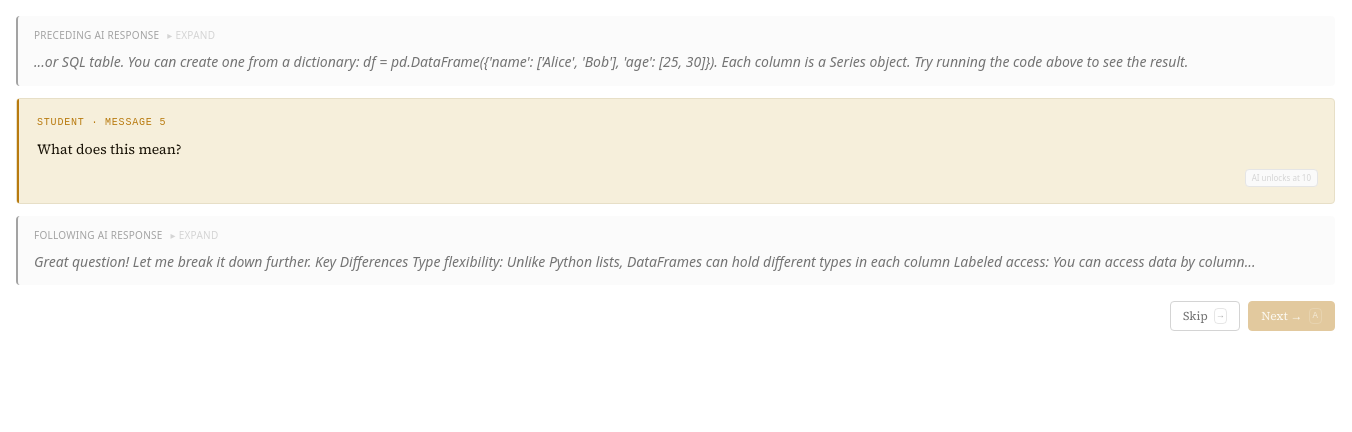
clicking collapsed context expands to show full markdown
Click the text "Preceding AI response". click: x=676, y=51
box: [16, 16, 1335, 86]
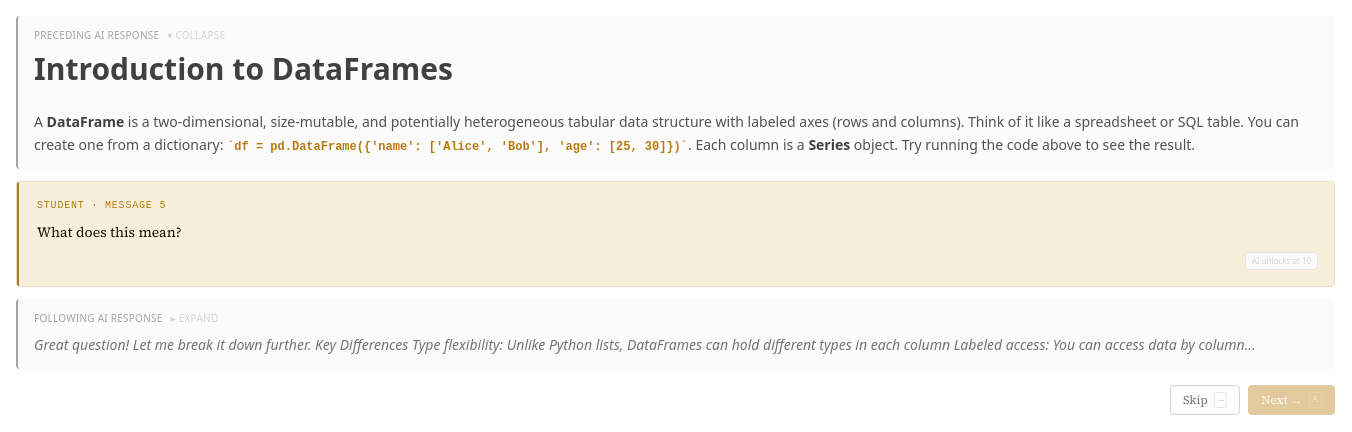
Now the heading "Introduction to DataFrames" is shown, box [34, 48, 453, 89]
